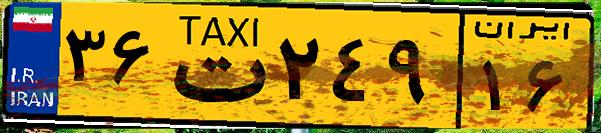1: (475, 38, 525, 113)
2: (270, 28, 330, 110)
3: (57, 26, 110, 100)
4: (330, 28, 385, 110)
6: (525, 38, 570, 115), (110, 28, 158, 98)
9: (385, 28, 445, 110)
ت: (158, 12, 270, 120)
